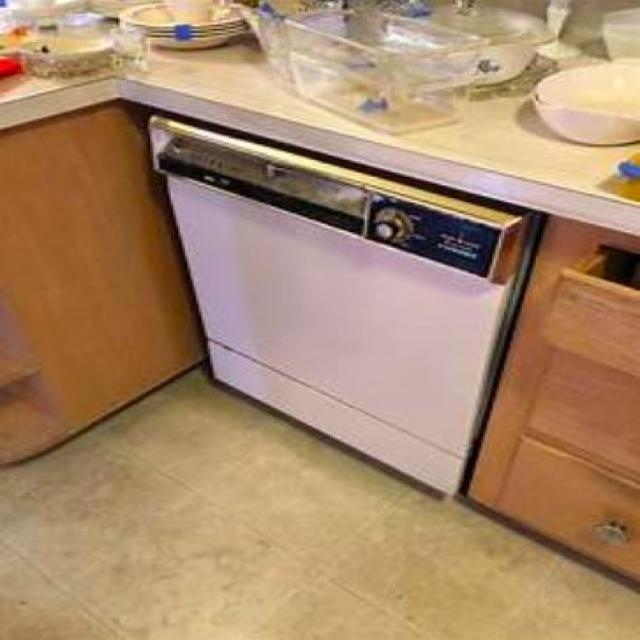dishwasher: (148, 106, 527, 502)
